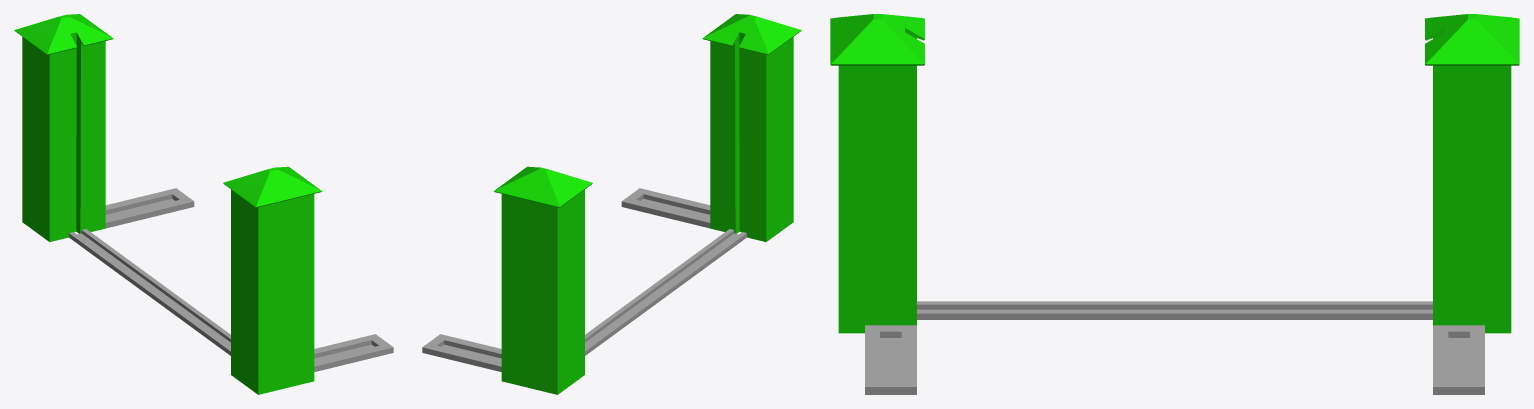
File: Towers.fbx
The picture shows the model from 3 angles, left to right: view 1: azimuth 30°, elevation 25°; view 2: azimuth 150°, elevation 25°; view 3: azimuth 270°, elevation 25°; orthographic projection. The views are drawn at different scales.
Parts seen in each view (by area): view 1: Pillars1, KogHolder (×2); view 2: Pillars1, KogHolder (×2); view 3: Pillars1, KogHolder (×2).
Boxes of the visible parts, left/top/right/bottom form: Pillars1: left=14, top=14, right=321, bottom=394; KogHolder (×2): left=105, top=188, right=393, bottom=371; Pillars1: left=494, top=14, right=801, bottom=394; KogHolder (×2): left=422, top=188, right=710, bottom=371; Pillars1: left=830, top=14, right=1519, bottom=333; KogHolder (×2): left=865, top=325, right=1484, bottom=394.
Size of the model in its own units: 4.76 by 6.33 by 13.32.
